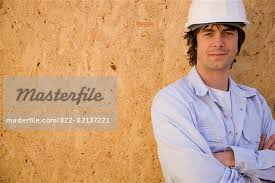Person_wearing_helmet: (181, 0, 244, 41)
